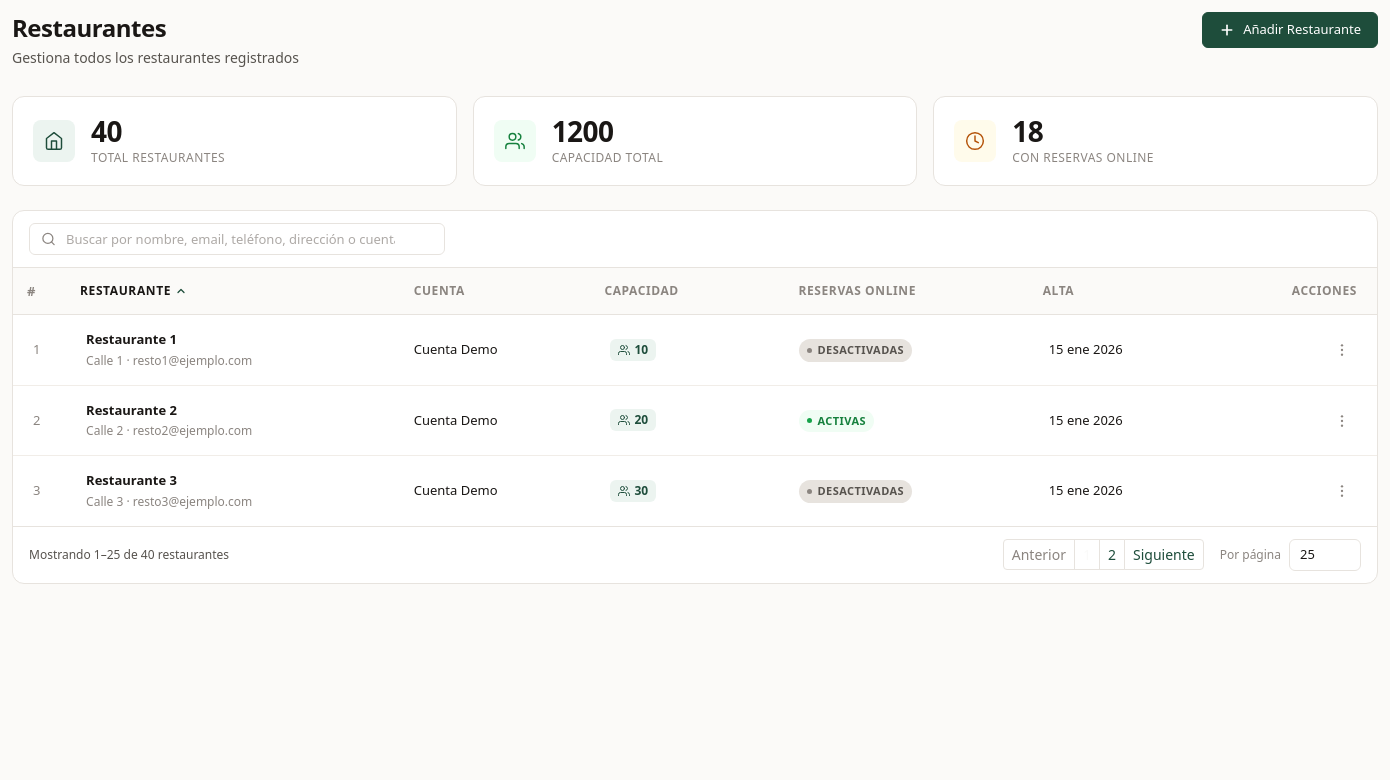
Restaurantes — paginación › navega a la página siguiente pidiéndosela al backend
Expected: the text "Restaurante 1" is shown, [86, 330, 177, 348]
Click the button with aria-label "página siguiente": point(1164, 555) [1124, 539, 1204, 570]
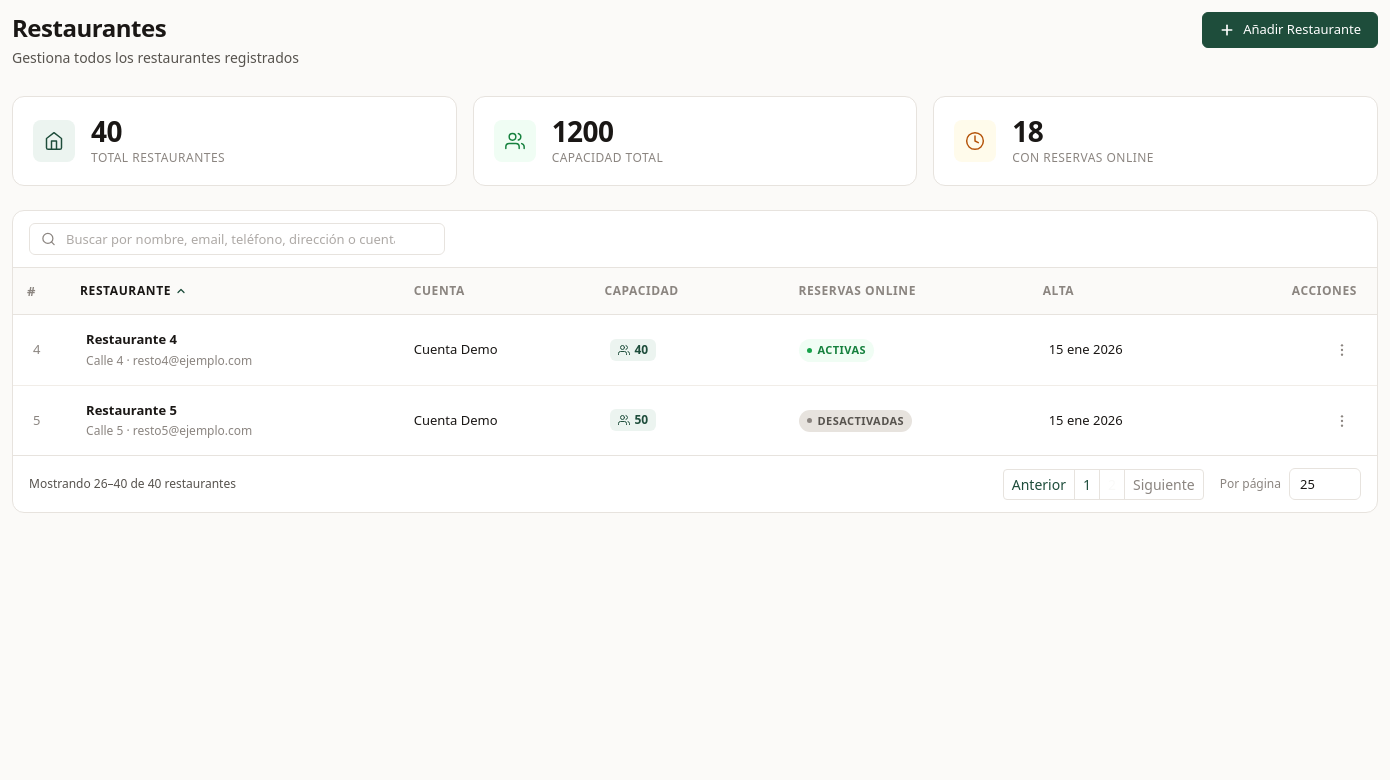
Expected: the text "Restaurante 4" is shown, [86, 330, 177, 348]
